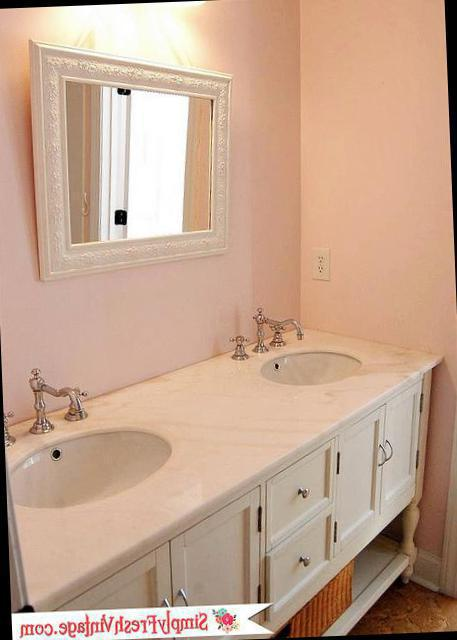Lavamanos: (3, 371, 184, 520), (217, 303, 374, 398)
